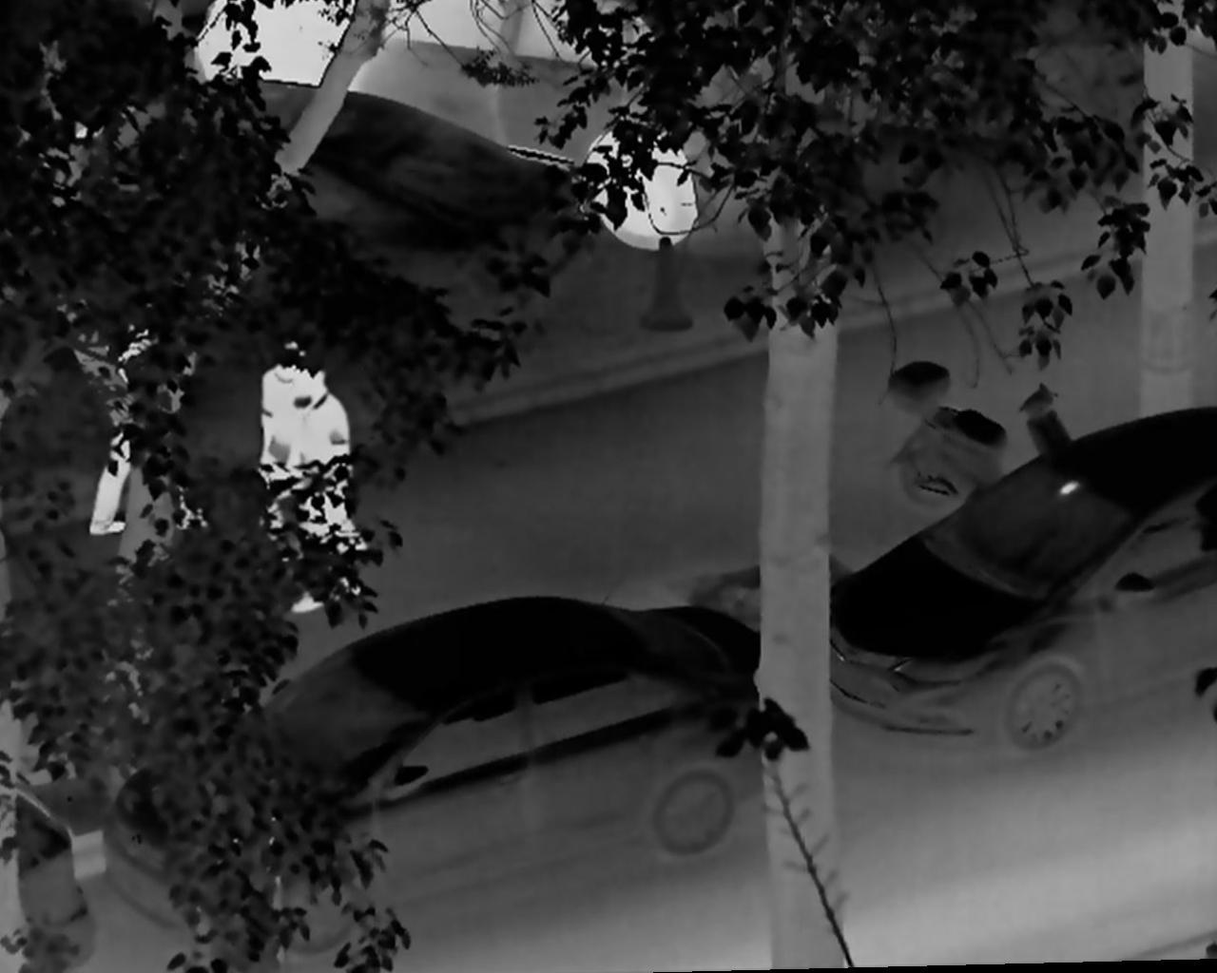person: (86, 297, 210, 541), (270, 354, 379, 613), (249, 334, 320, 557)
